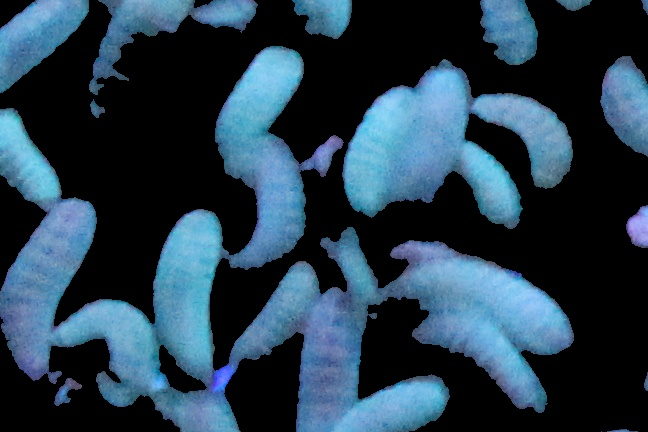larvae: (392, 253, 571, 355), (1, 194, 98, 379), (83, 1, 198, 128), (413, 312, 548, 414), (215, 45, 310, 169), (159, 203, 225, 379), (230, 138, 312, 279), (1, 1, 95, 113), (225, 264, 318, 376), (469, 94, 573, 194), (298, 282, 362, 432), (52, 299, 158, 383), (346, 90, 414, 219), (411, 61, 471, 207), (1, 106, 69, 206), (449, 142, 520, 227), (470, 1, 552, 68), (599, 54, 648, 161), (353, 379, 453, 429)
